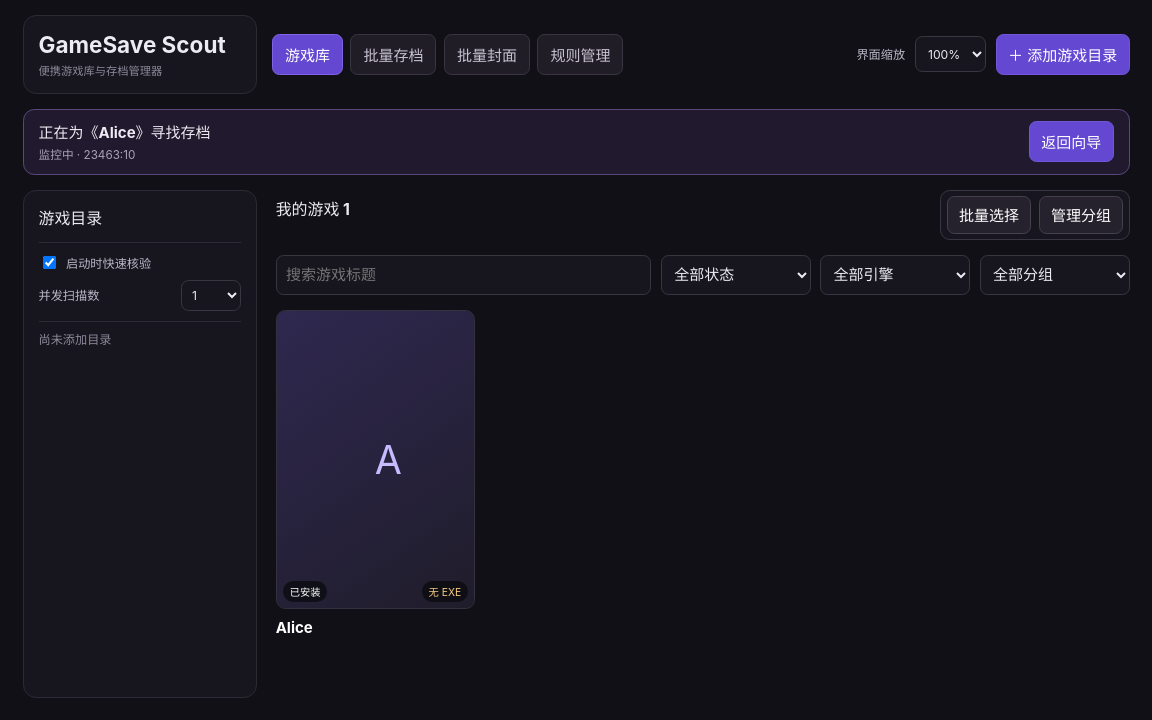
Scenario: App › restores the monitored game drawer from the global guided status bar
The image size is (1152, 720).
Expected: the message with test id "guided-save-status-bar" shows "Alice", [38,123,211,142]
Click the button with test id "restore-guided-save".
click(1071, 142)  # box [1029,121,1114,162]
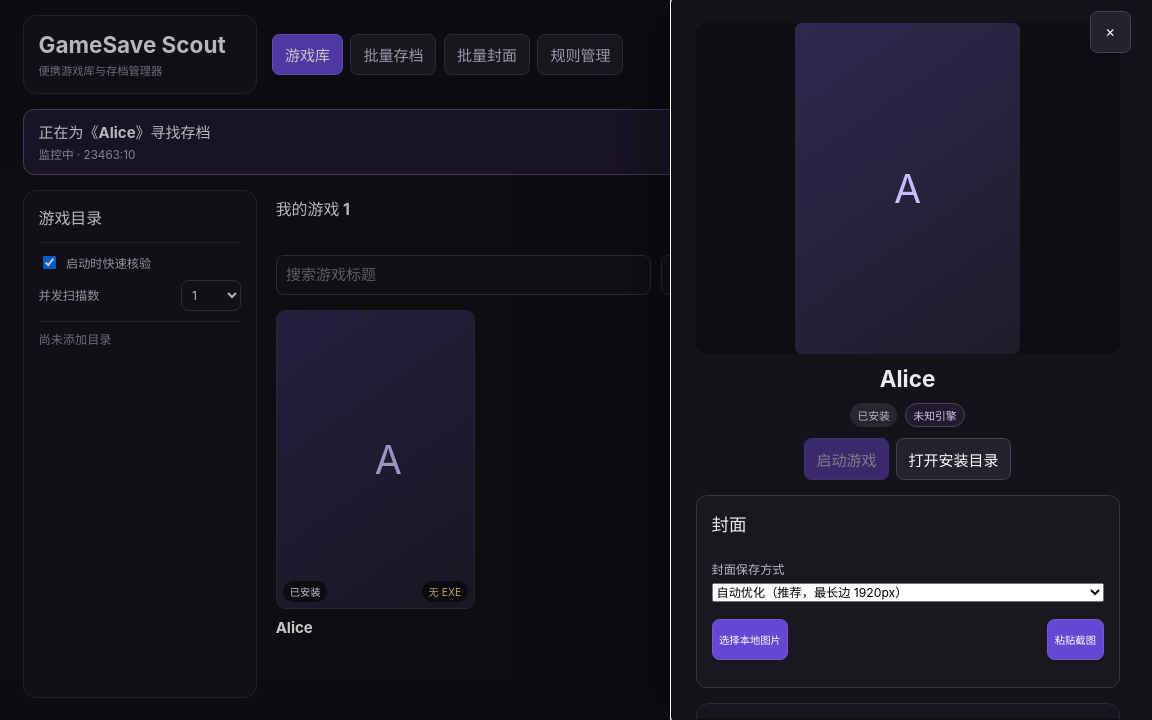
Expected: the dialog with test id "game-detail-drawer" is shown, [672,0,1151,719]
